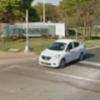cars: (38, 39, 86, 68)
